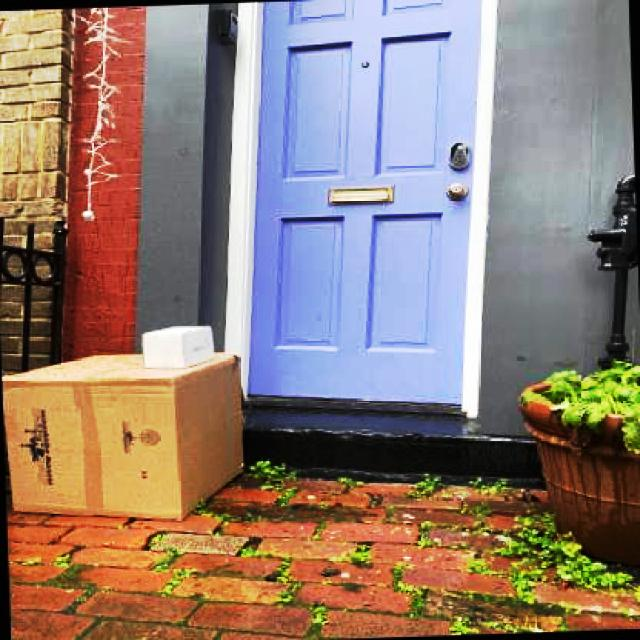Box: (1, 345, 259, 530), (135, 319, 223, 372)
